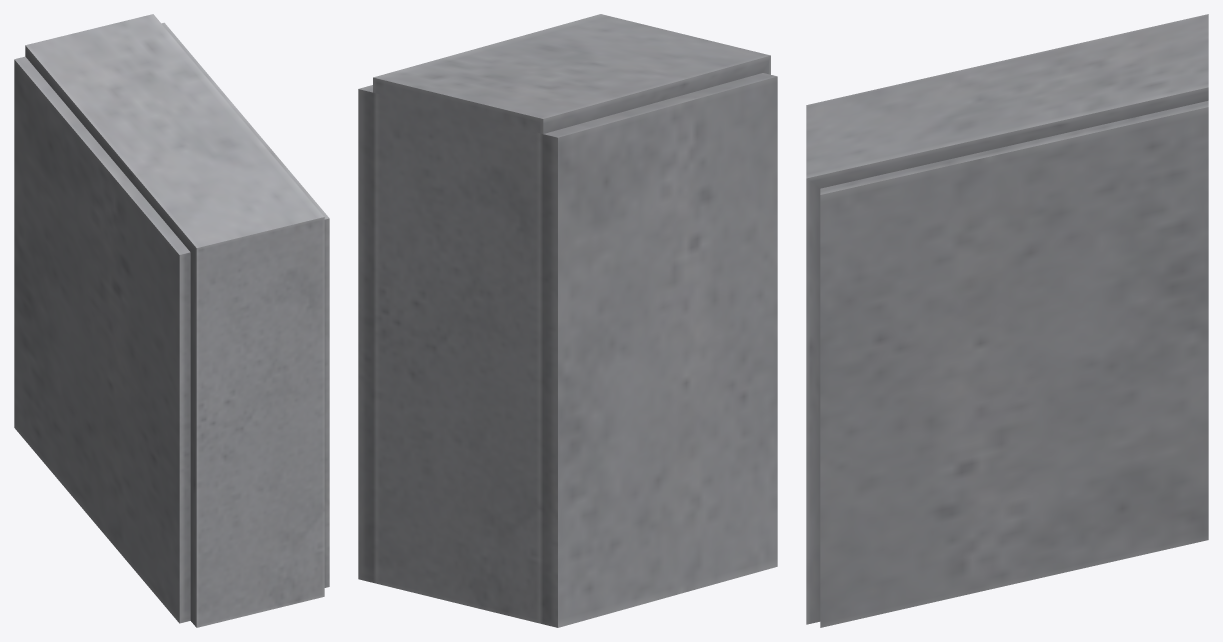
Rendered from set_curb_slope_end.fbx.
3 views of the same model, side by side, from view 1: azimuth 30°, elevation 25°; view 2: azimuth 150°, elevation 25°; view 3: azimuth 270°, elevation 25° (orthographic). The views are drawn at different scales.
Visible parts, largest first — view 1: set_curb_slope_end; view 2: set_curb_slope_end; view 3: set_curb_slope_end.
Part boxes in pixels (bbox=[...]): set_curb_slope_end: bbox=[14, 14, 329, 627]; set_curb_slope_end: bbox=[358, 14, 777, 627]; set_curb_slope_end: bbox=[806, 14, 1208, 627].
Size of the model in its own units: 30 by 87.3 by 59.25.
